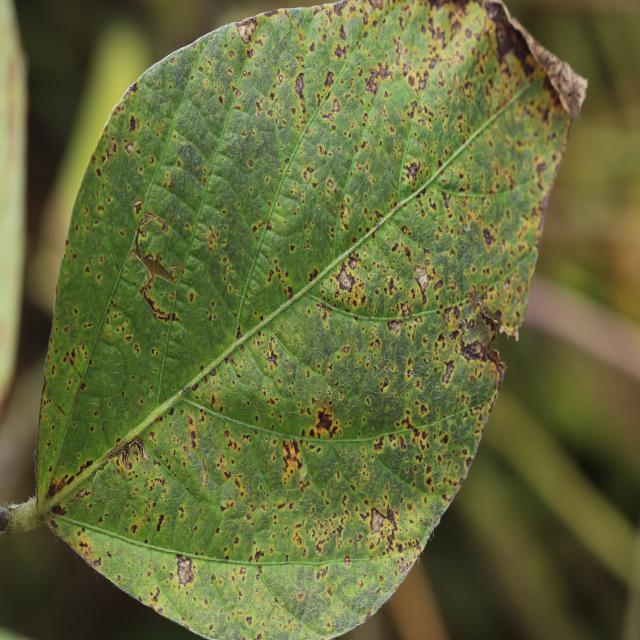Bacterial_Blight: (454, 95, 541, 205), (516, 162, 561, 323), (215, 560, 296, 633), (381, 409, 445, 497), (390, 25, 448, 107), (223, 121, 275, 192), (171, 484, 218, 544), (401, 254, 444, 319), (164, 162, 212, 209), (308, 392, 350, 444), (328, 256, 367, 308), (367, 502, 404, 554), (261, 257, 297, 307), (98, 437, 146, 473), (88, 141, 119, 193), (470, 298, 501, 347), (492, 15, 522, 62), (560, 74, 588, 118), (60, 342, 88, 384), (175, 142, 206, 179), (130, 213, 152, 265), (280, 438, 304, 485), (484, 370, 506, 420), (340, 572, 376, 601), (254, 90, 281, 126), (365, 61, 392, 93), (47, 471, 76, 499), (138, 210, 169, 236), (235, 15, 258, 45), (460, 337, 485, 364), (175, 554, 195, 586), (370, 506, 389, 533), (487, 348, 505, 376), (76, 534, 95, 560), (320, 98, 341, 121), (467, 293, 487, 317), (264, 342, 279, 368), (403, 161, 419, 184), (68, 488, 91, 504), (441, 359, 456, 383), (502, 322, 520, 341), (187, 422, 199, 450), (482, 226, 496, 248), (386, 319, 404, 336), (168, 262, 183, 282), (294, 72, 305, 98), (0, 507, 10, 533), (233, 476, 246, 495), (125, 81, 138, 99), (334, 43, 347, 60), (260, 9, 280, 20), (323, 69, 335, 87), (128, 114, 139, 133), (55, 401, 67, 418), (149, 586, 160, 604), (201, 461, 208, 489), (373, 218, 386, 233), (132, 198, 143, 215), (156, 514, 166, 532), (293, 530, 303, 547), (348, 256, 360, 270), (379, 376, 389, 392), (254, 548, 265, 562), (235, 325, 243, 340), (130, 523, 139, 535), (125, 141, 134, 153), (188, 291, 195, 302), (343, 555, 350, 566), (406, 368, 413, 378), (464, 222, 471, 232), (246, 615, 252, 626), (140, 230, 147, 238), (149, 156, 155, 165), (84, 266, 90, 274)
Soybean: (0, 0, 584, 640)
